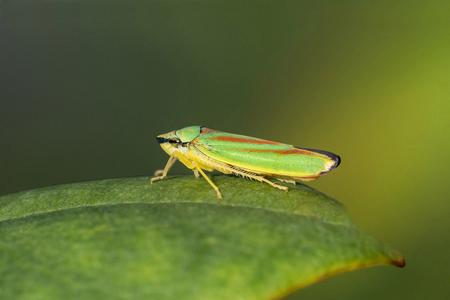Cicadellidae: (155, 125, 341, 194)
